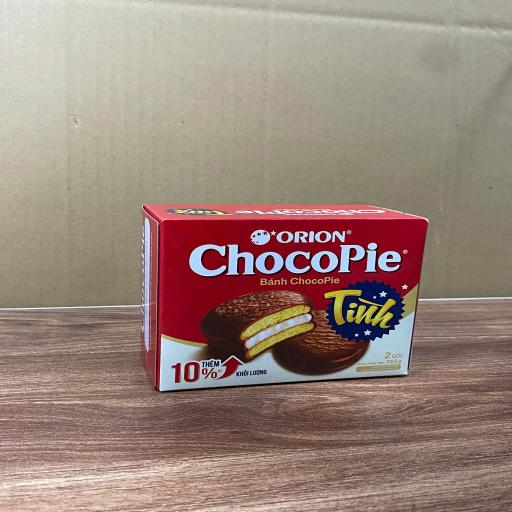chocopie: (139, 203, 428, 392)
